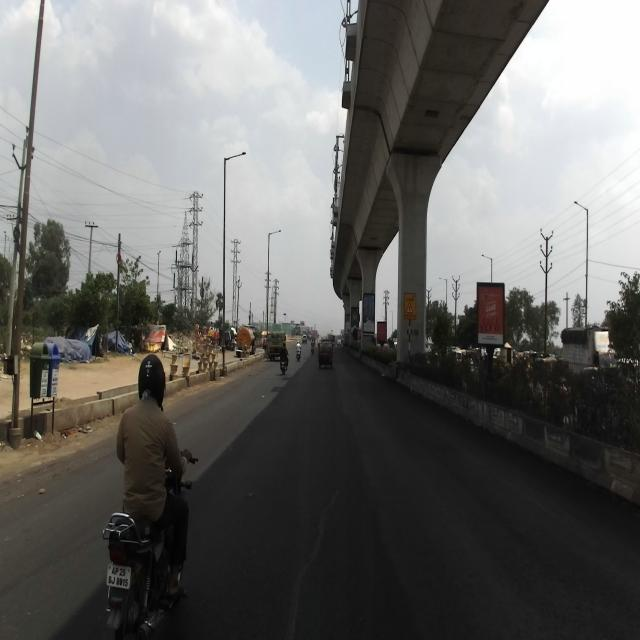motorcycle: (102, 449, 198, 639)
